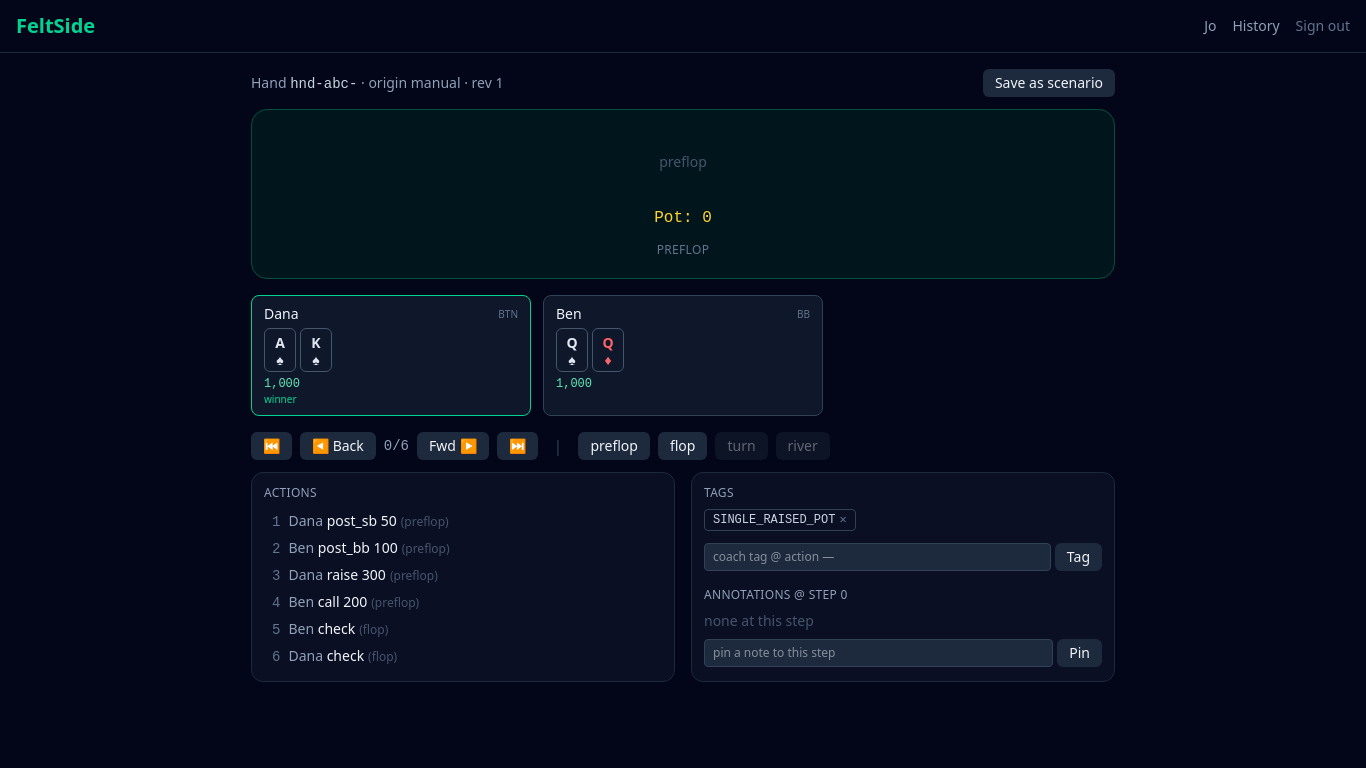
Test: ReviewPage › renders the replay, shows all hole cards, and steps forward
Check: the text "Hand hnd-abc- · origin manual · rev 1" is shown, box [251,72,503,94]
Check: the text "A" is shown, box [275,333,285,353]
Click the button "Fwd ▶".
click(453, 446)  # box [417,432,488,460]
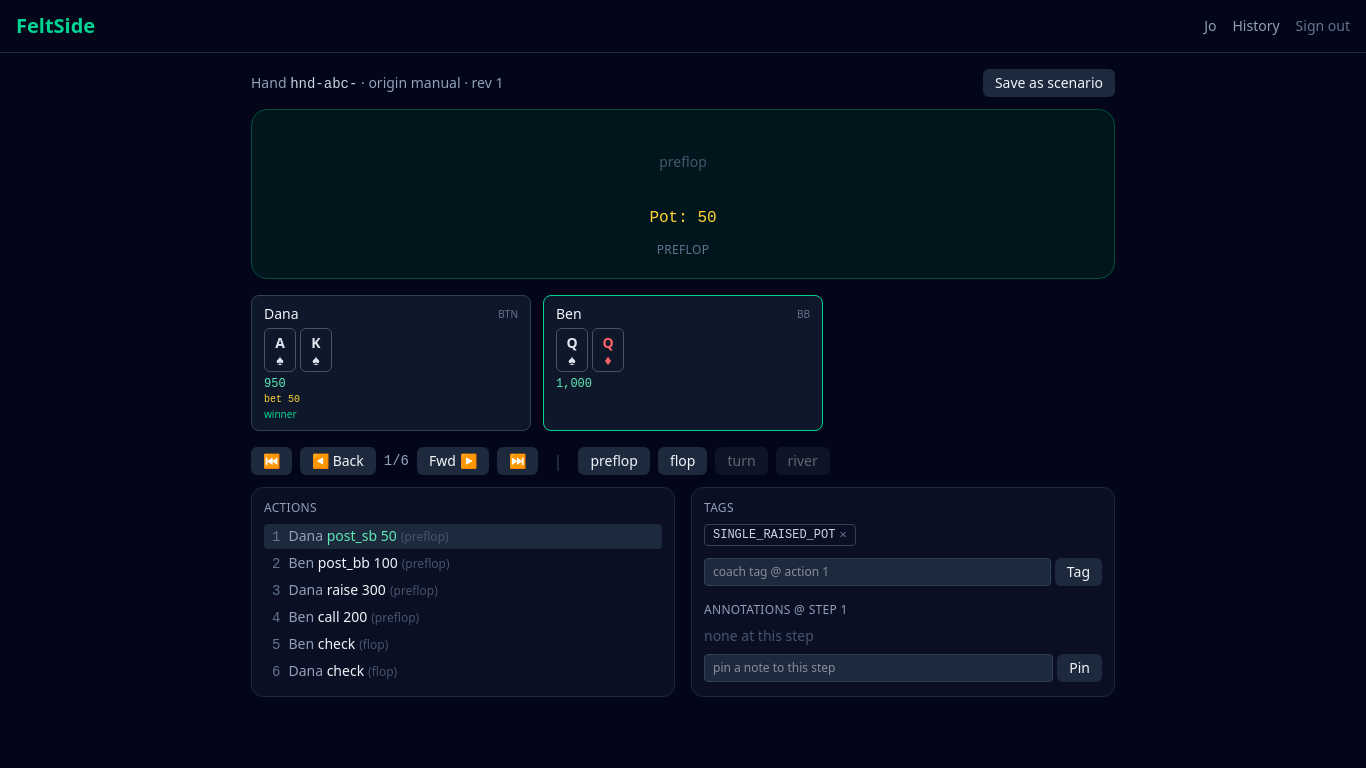
Check: the text "Pot: 0" is gone
